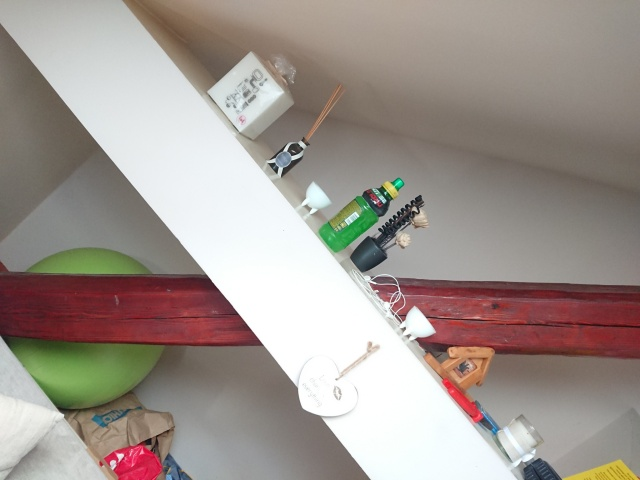Vindi Iso Sport Lemon-Grapefruit 500mL: (317, 176, 406, 254)
